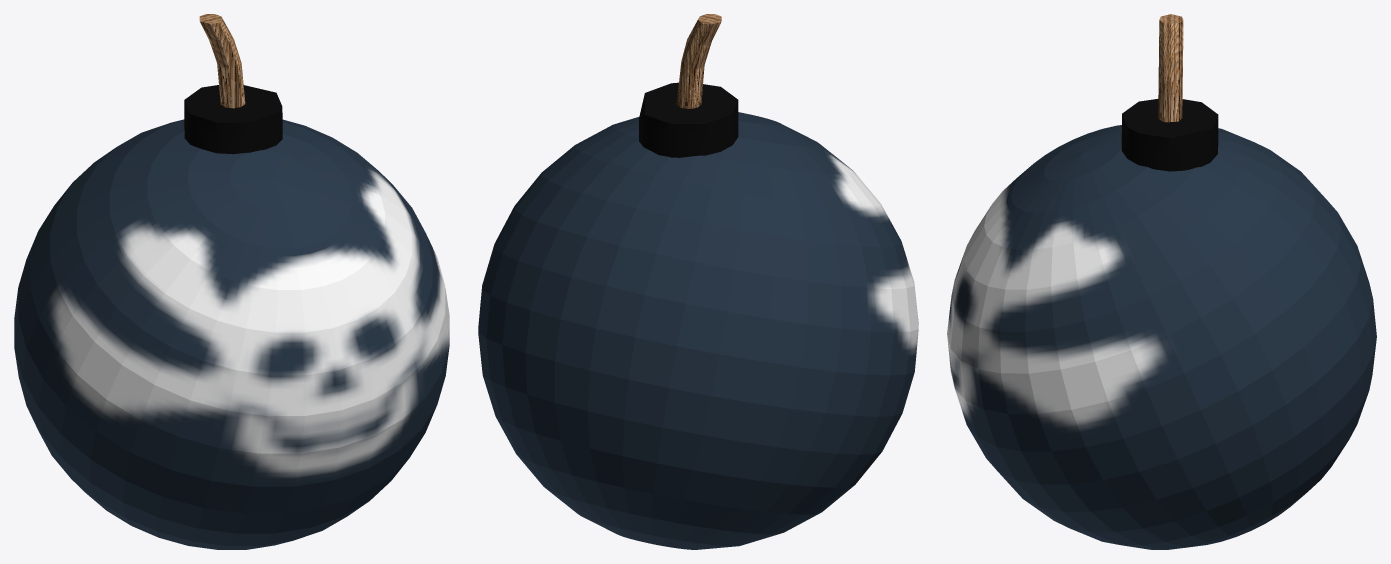
Rendered from bomb_deadBomb.FBX.
3 renders of one model, left to right at view 1: azimuth 30°, elevation 25°; view 2: azimuth 150°, elevation 25°; view 3: azimuth 270°, elevation 25°, orthographic. The views are drawn at different scales.
Parts seen in each view (by area): view 1: Cylinder07; view 2: Cylinder07; view 3: Cylinder07.
Boxes of the visible parts, x1,y1,x2,y2 form: Cylinder07: [14, 14, 449, 549]; Cylinder07: [478, 14, 918, 549]; Cylinder07: [947, 14, 1376, 549].
Bounding box in the file's own units: 37.77 × 48.77 × 37.77.
3 materials, 2 textured.
